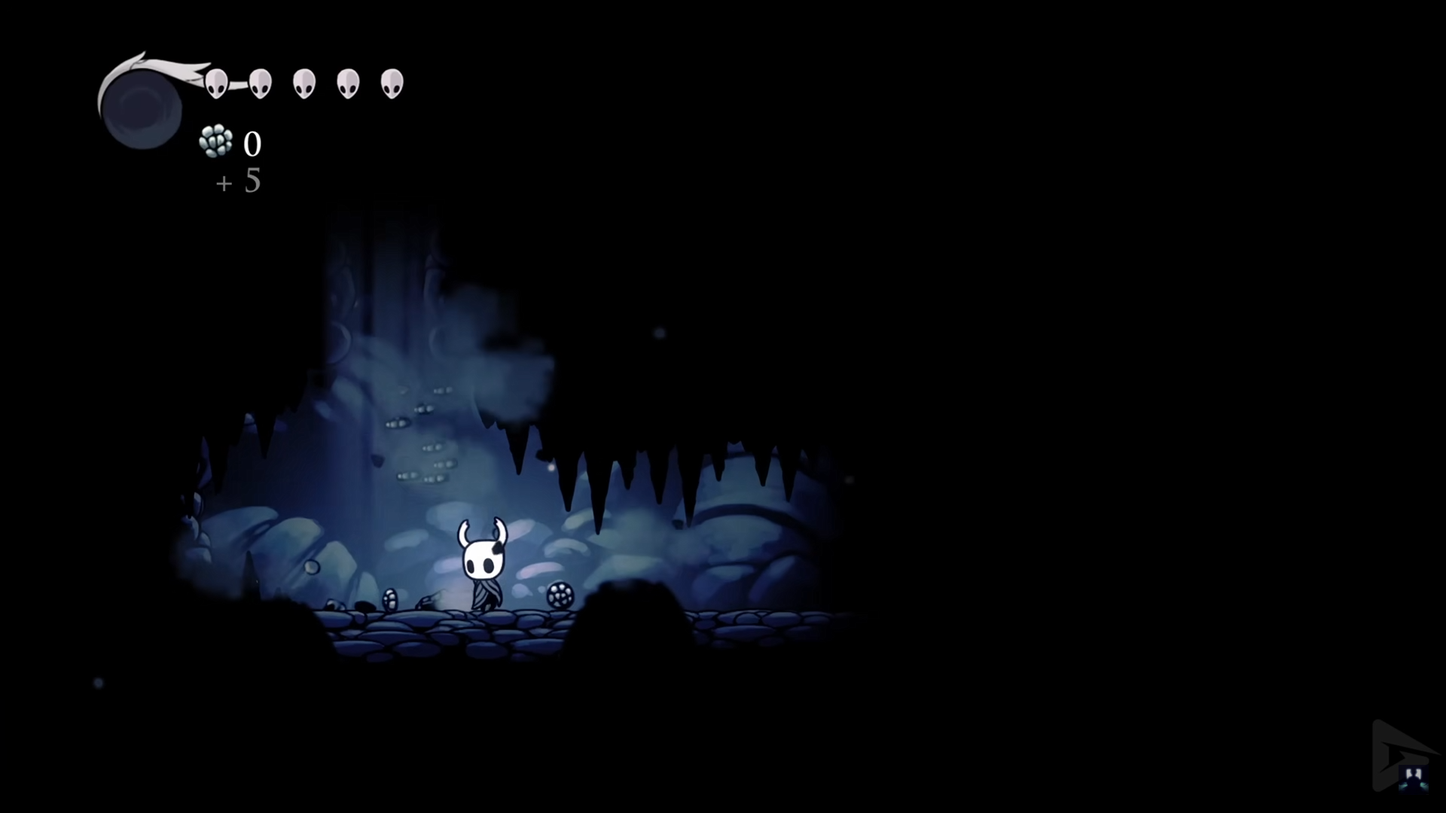HK: (452, 518, 512, 614)
